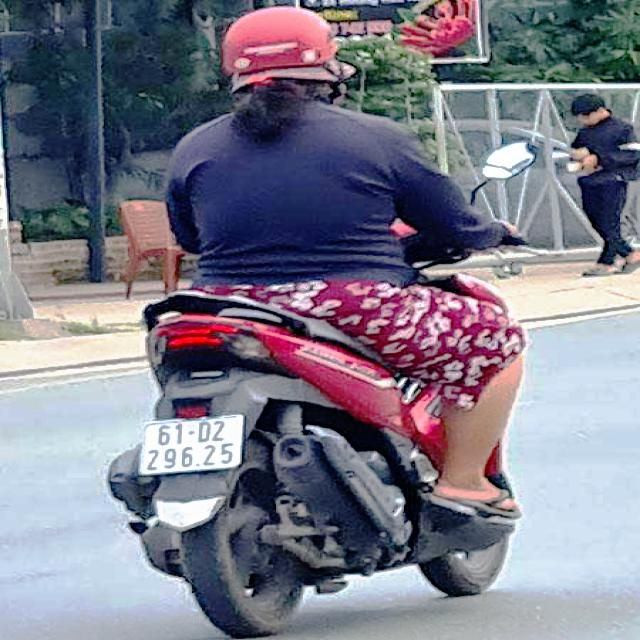license_plate: (139, 415, 244, 476)
